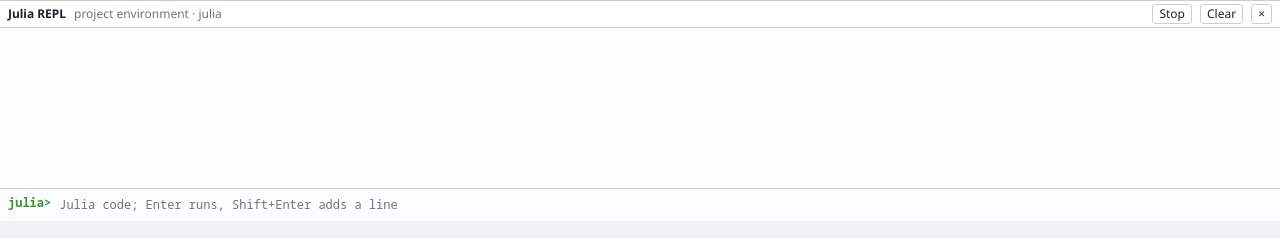
Test: Tab turns \alpha into α
Type "\\alpha" into the text box named "Julia input". click: (665, 205)
box: left=57, top=193, right=1272, bottom=217
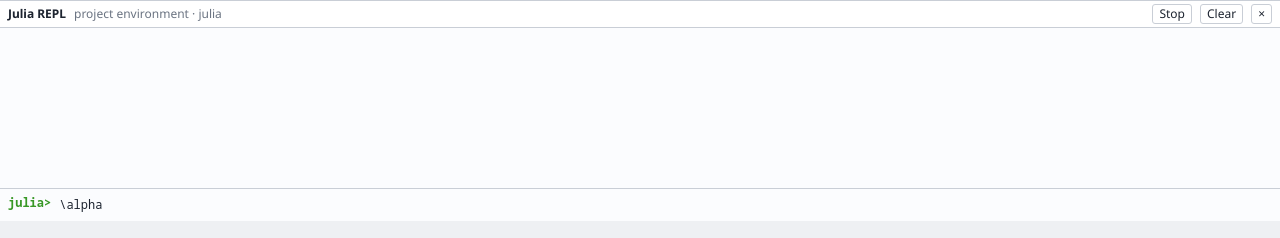
Press Tab in the text box named "Julia input", box left=57, top=193, right=1272, bottom=217
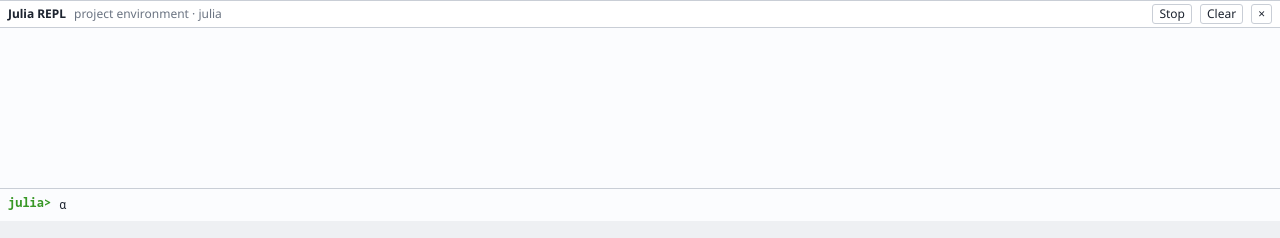
Expected: the text box named "Julia input" holds "α", left=57, top=193, right=1272, bottom=217
